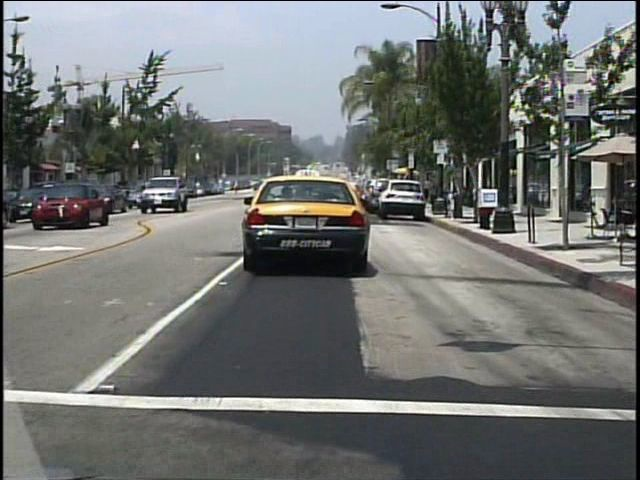person: (423, 176, 429, 199)
